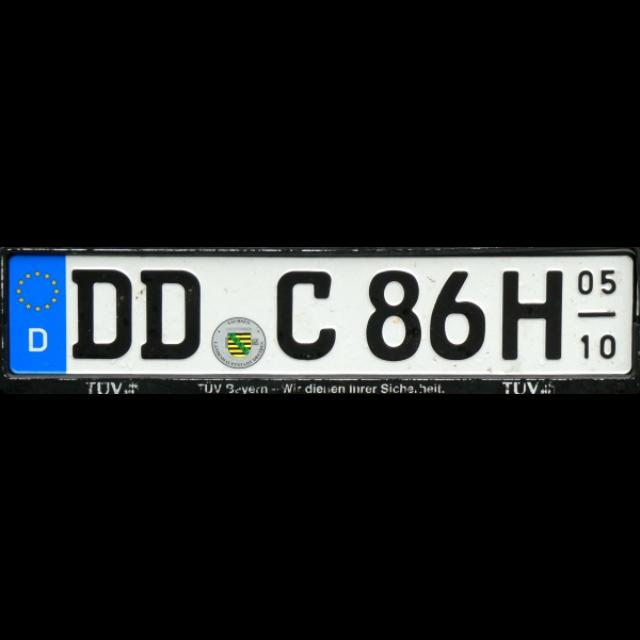d_license_plate: (6, 252, 634, 374)
